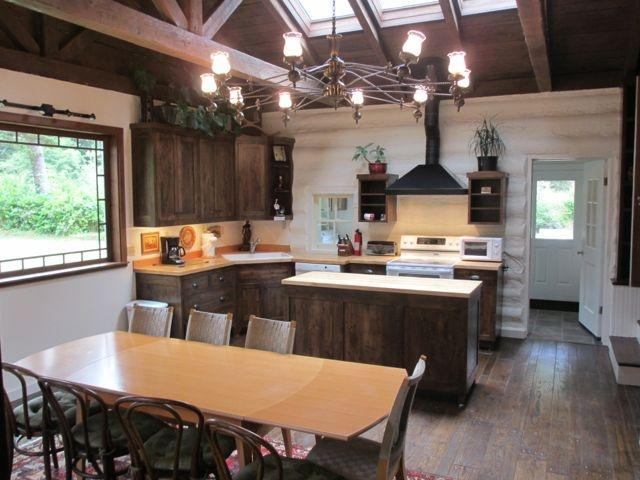Kursi: (302, 354, 427, 479)
Lemari: (155, 121, 267, 227)
Meja: (11, 327, 408, 443)
